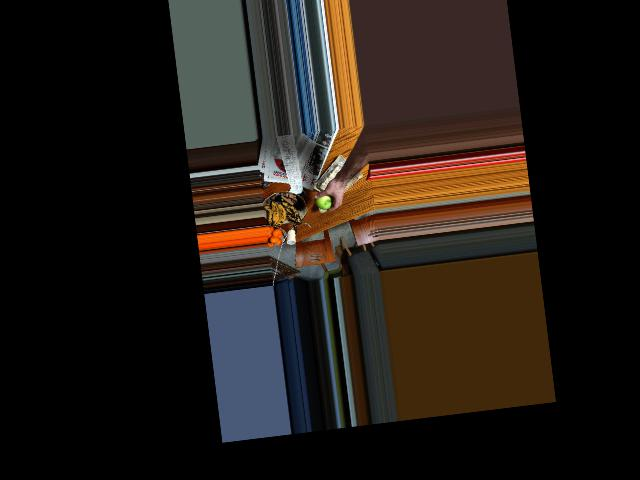apple: (314, 190, 336, 211)
